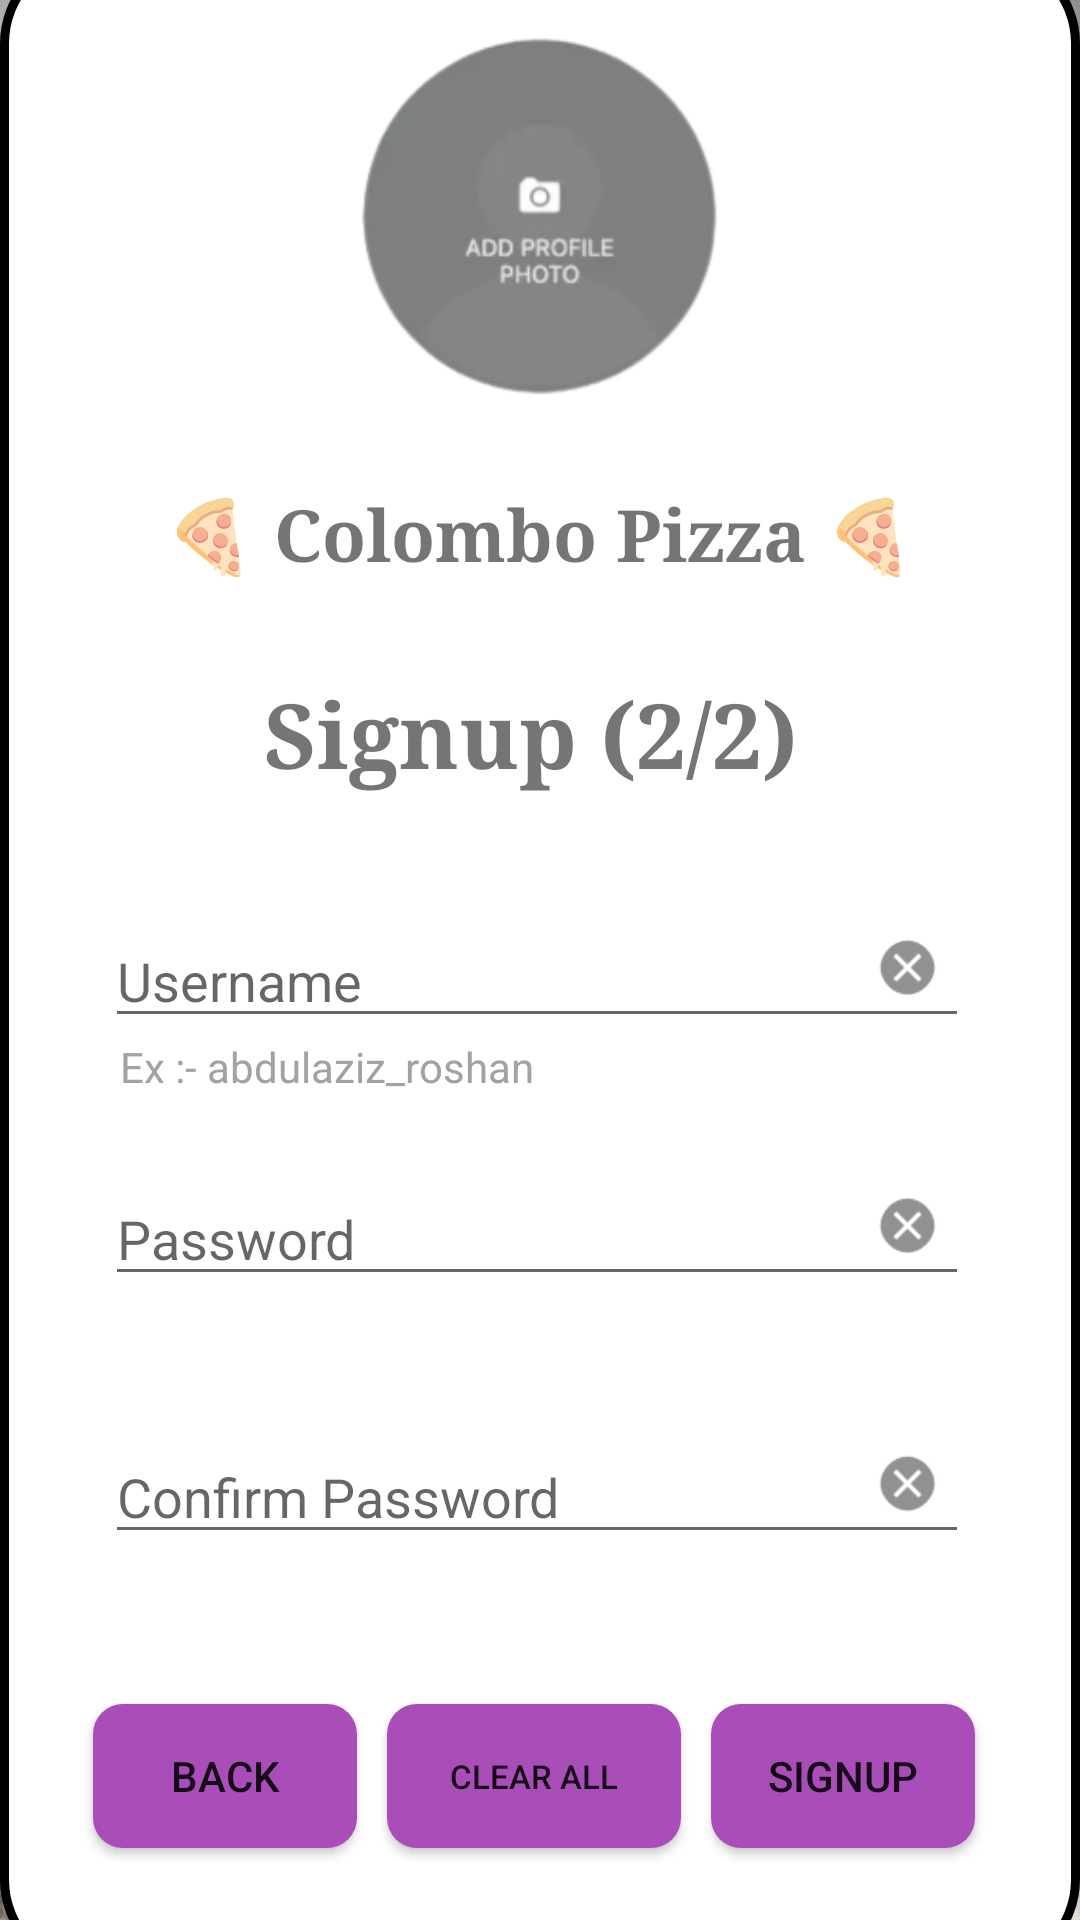

Named icons in this screenshot (1080 x 1920) and their centers, point (x, y):
presence offline: point (907, 967), point (907, 1225), point (907, 1483)
